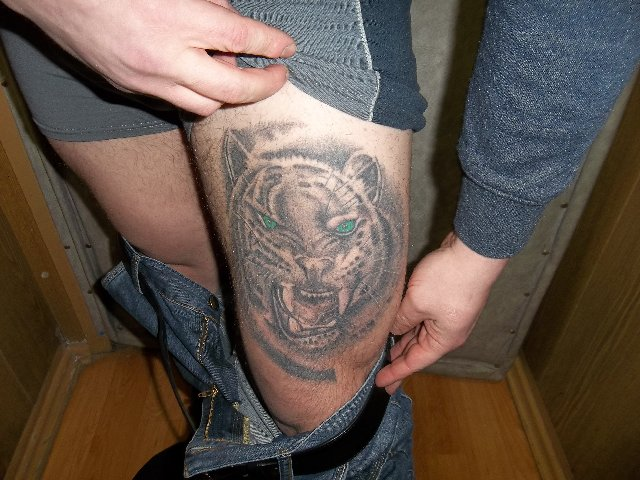tatu5_tigr: (173, 96, 423, 393)
